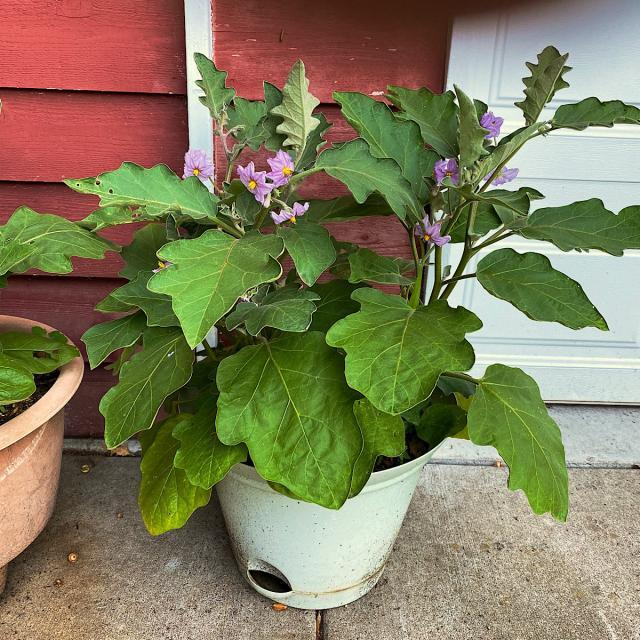brinjal: (0, 49, 640, 535)
